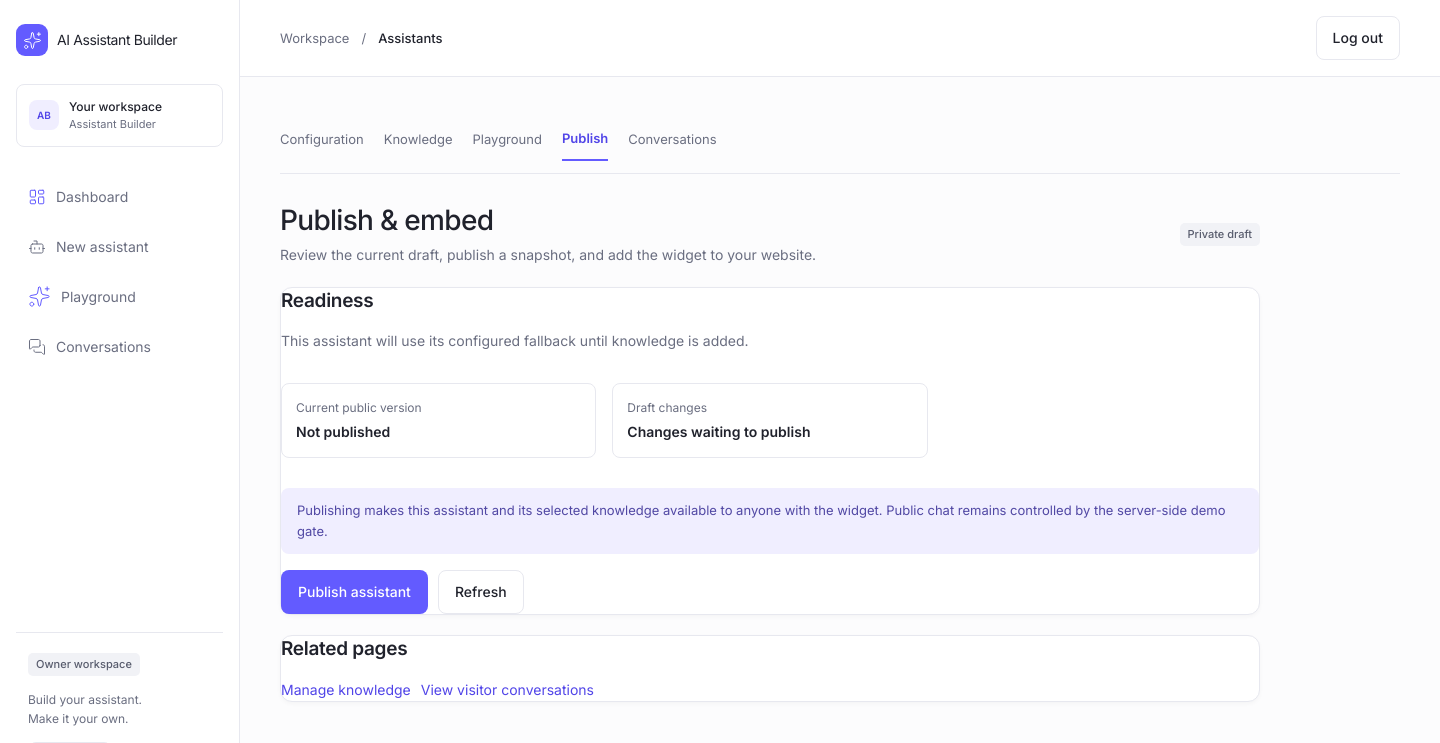
Test: P4-06 publishing UI › publishes with server fingerprint and idempotency, then shows the safe embed snippet
The image size is (1440, 743).
What coordinates should you click on to do the following:
click the button "Publish assistant"
I would click on:
 (354, 592)
Its box is top-left (281, 570), bottom-right (428, 614).
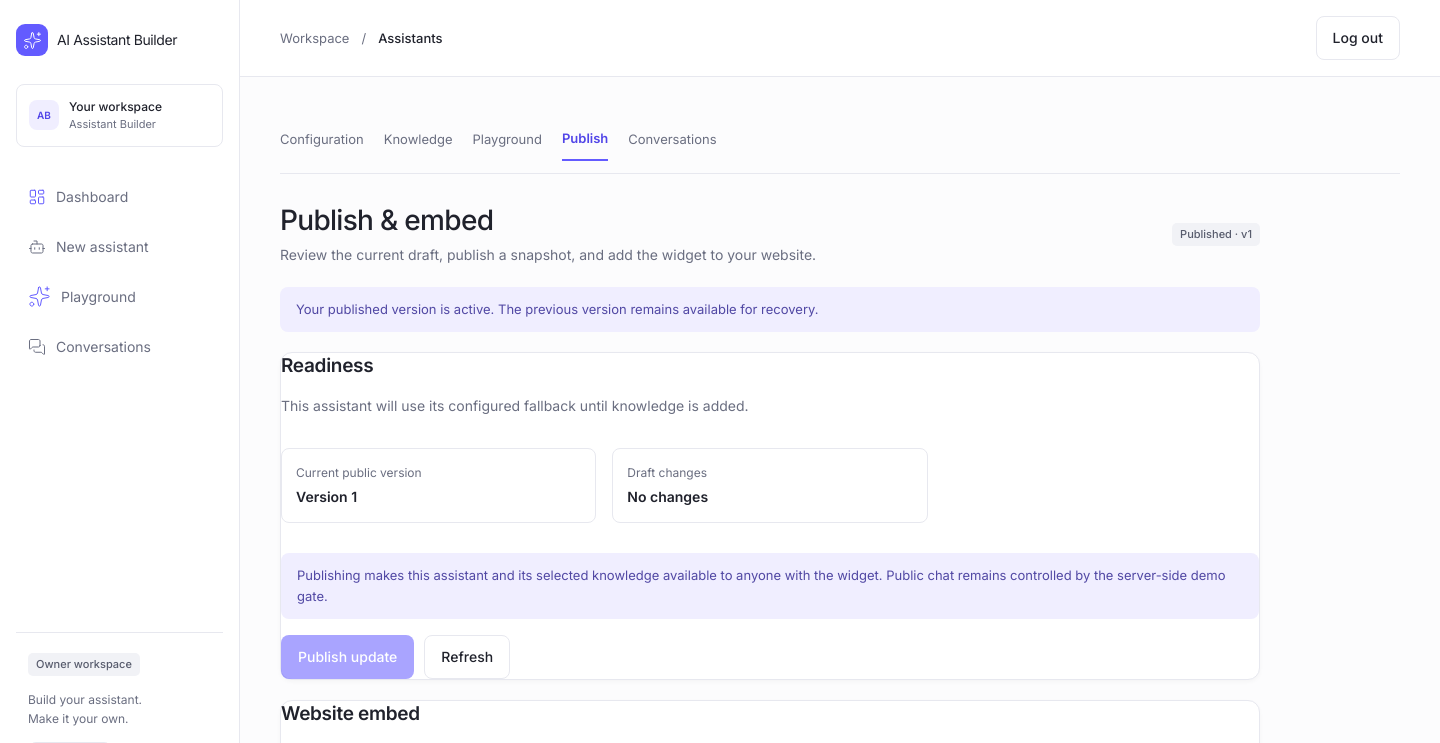
Check: the heading "Website embed" is shown, box top-left (281, 701), bottom-right (420, 727)
